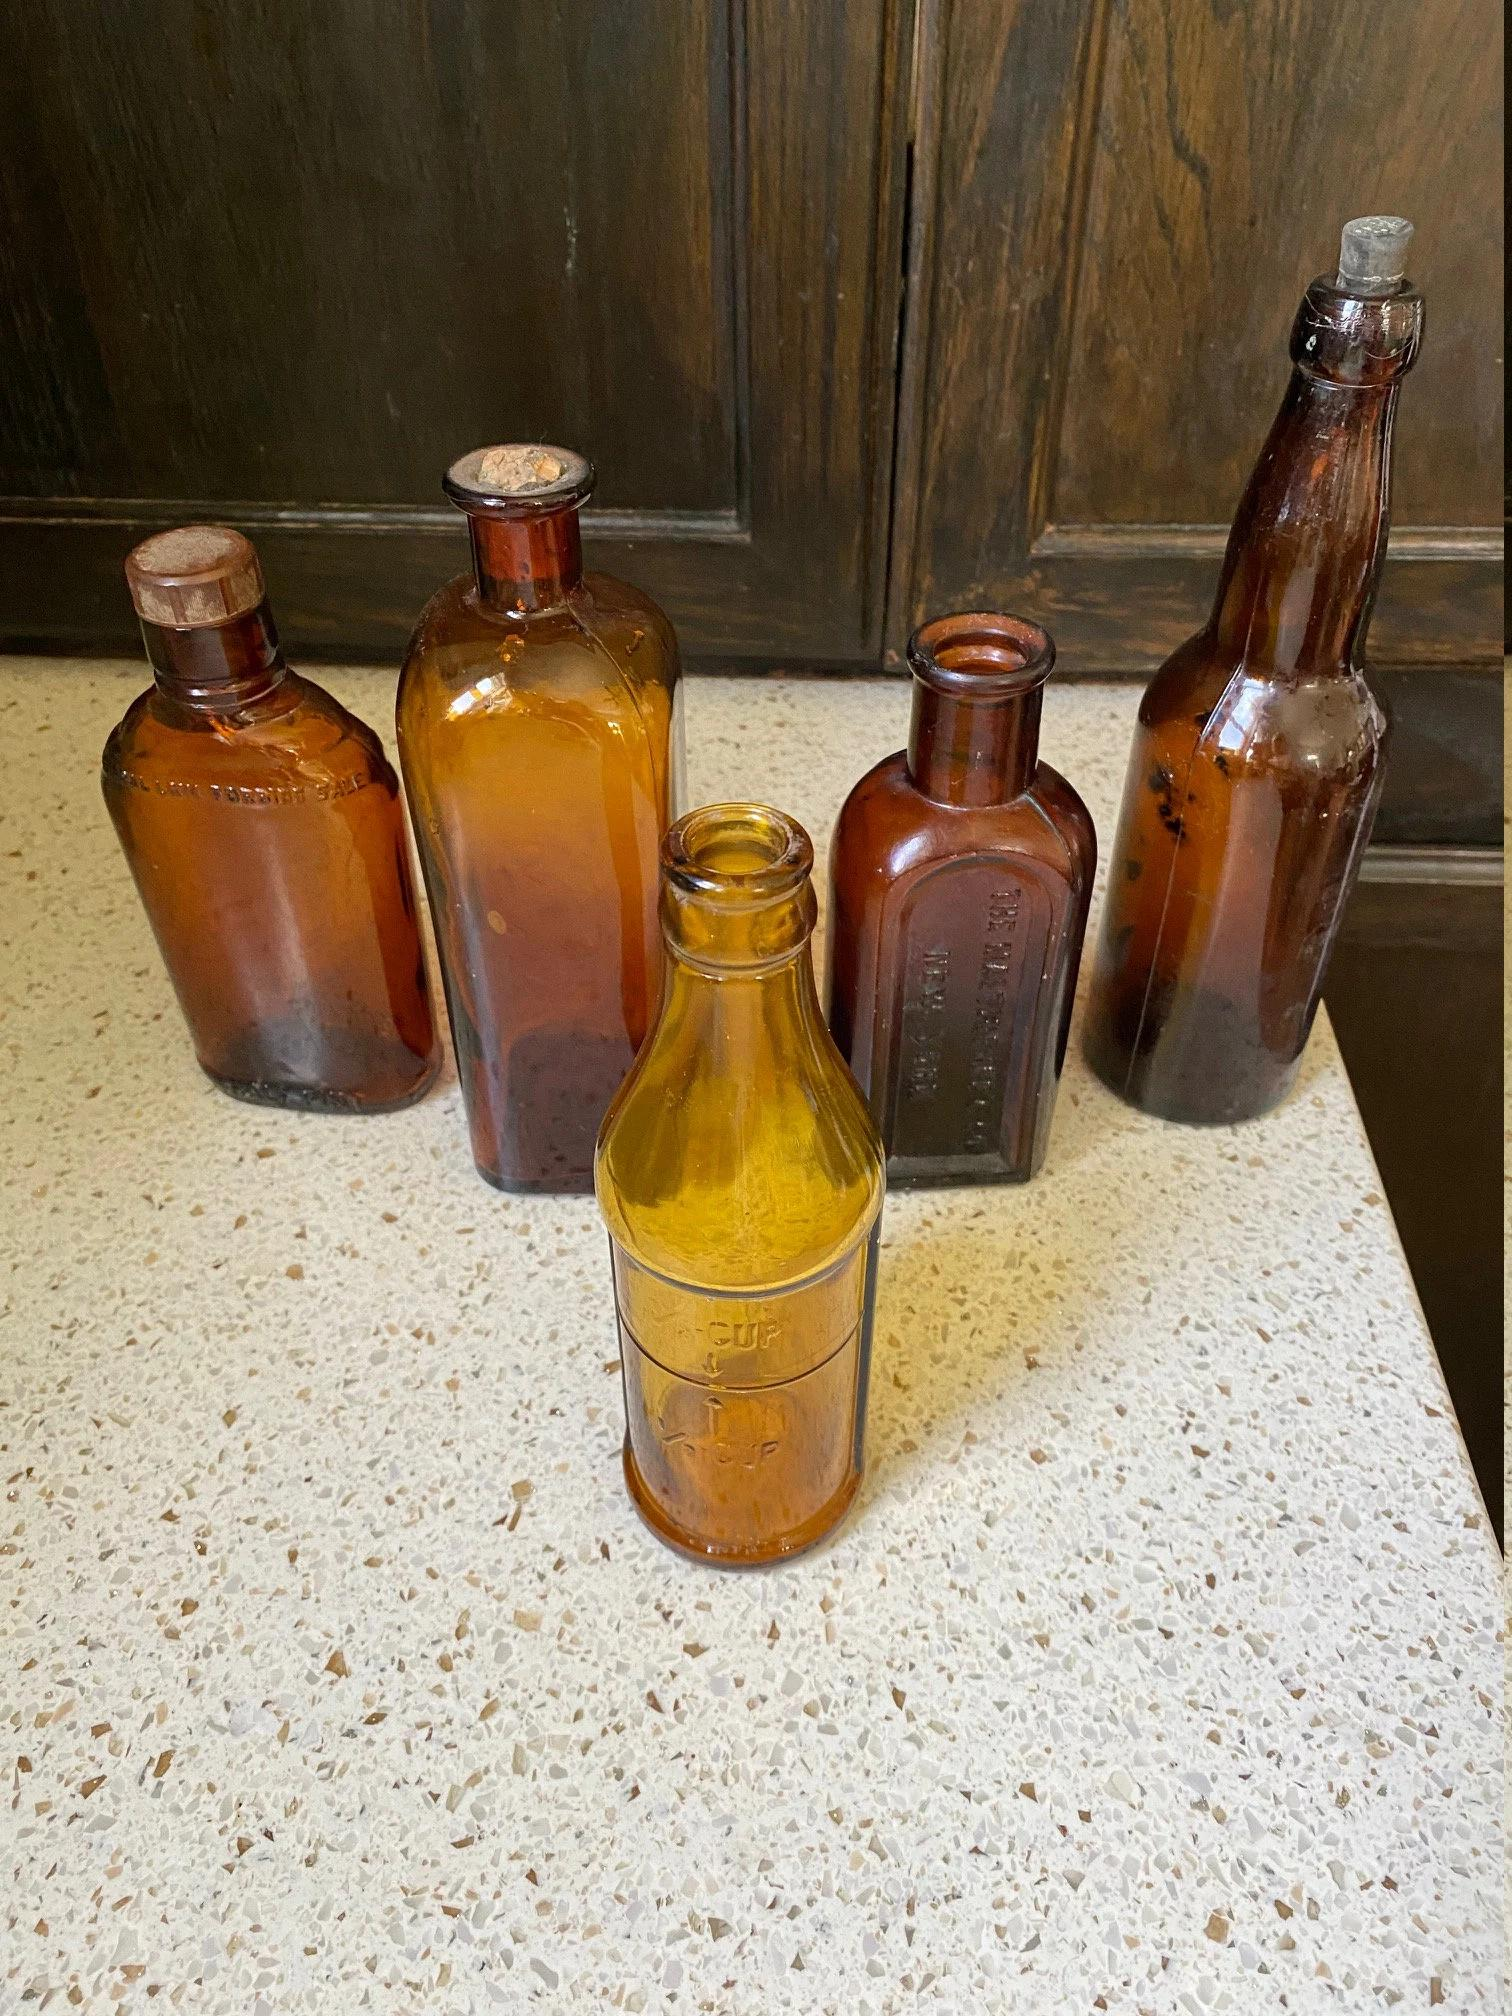glass: (1085, 227, 1436, 1132), (386, 440, 700, 1194), (583, 797, 880, 1578), (100, 530, 435, 1113), (840, 621, 1096, 1213)
